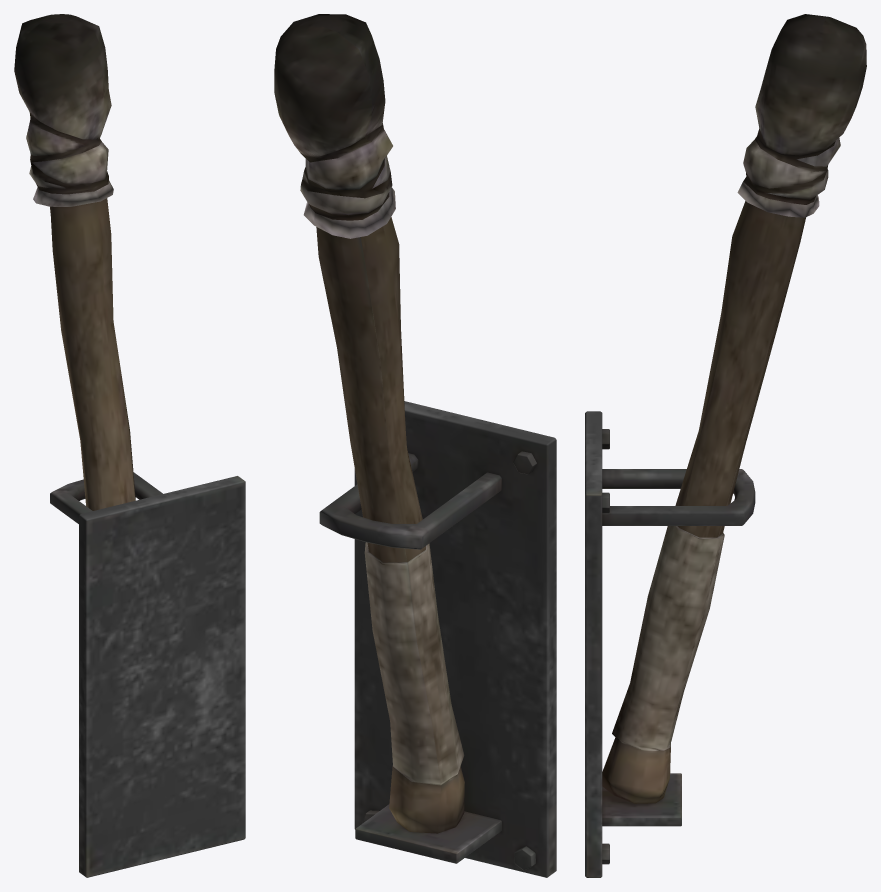
File: SM_TorchHang_fc454c.glb
3 renders of one model, left to right at view 1: azimuth 30°, elevation 25°; view 2: azimuth 150°, elevation 25°; view 3: azimuth 270°, elevation 25°, orthographic. The views are drawn at different scales.
Bounding box in the file's own units: 0.1562 × 0.7093 × 0.2221.
Materials: 1 (1 with a texture image).
